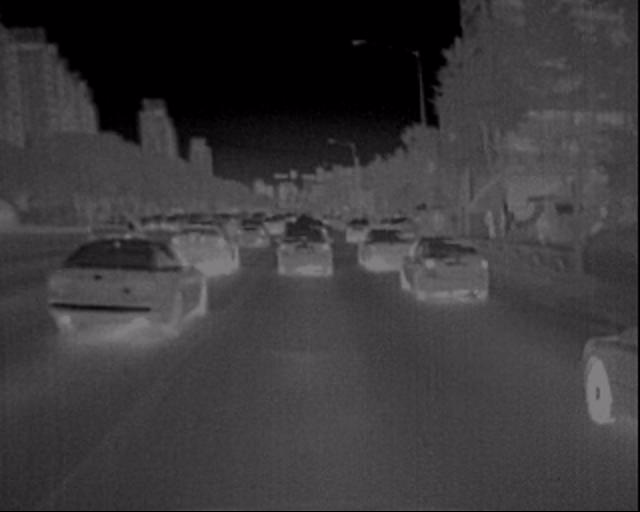person: (478, 197, 506, 252), (532, 206, 557, 252)
